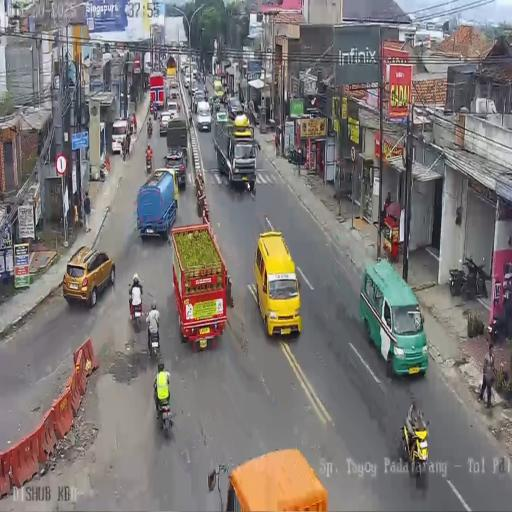3: (169, 222, 228, 351), (213, 110, 258, 188), (137, 167, 179, 239), (149, 72, 165, 110), (213, 79, 225, 101), (179, 53, 189, 75), (144, 52, 151, 76)
car: (358, 260, 426, 377), (253, 230, 300, 336), (62, 246, 115, 307), (163, 147, 188, 188), (111, 118, 131, 154), (196, 101, 212, 132), (227, 96, 244, 118), (166, 100, 180, 118), (192, 86, 203, 108), (159, 113, 169, 135), (216, 110, 228, 128), (168, 82, 179, 100), (120, 90, 129, 111), (184, 73, 193, 88), (192, 66, 197, 79)
truck: (402, 405, 430, 478), (448, 254, 490, 301), (489, 292, 512, 342), (155, 385, 174, 437), (146, 319, 161, 360), (128, 286, 142, 326), (146, 152, 152, 174), (147, 119, 152, 137), (153, 106, 158, 120)
